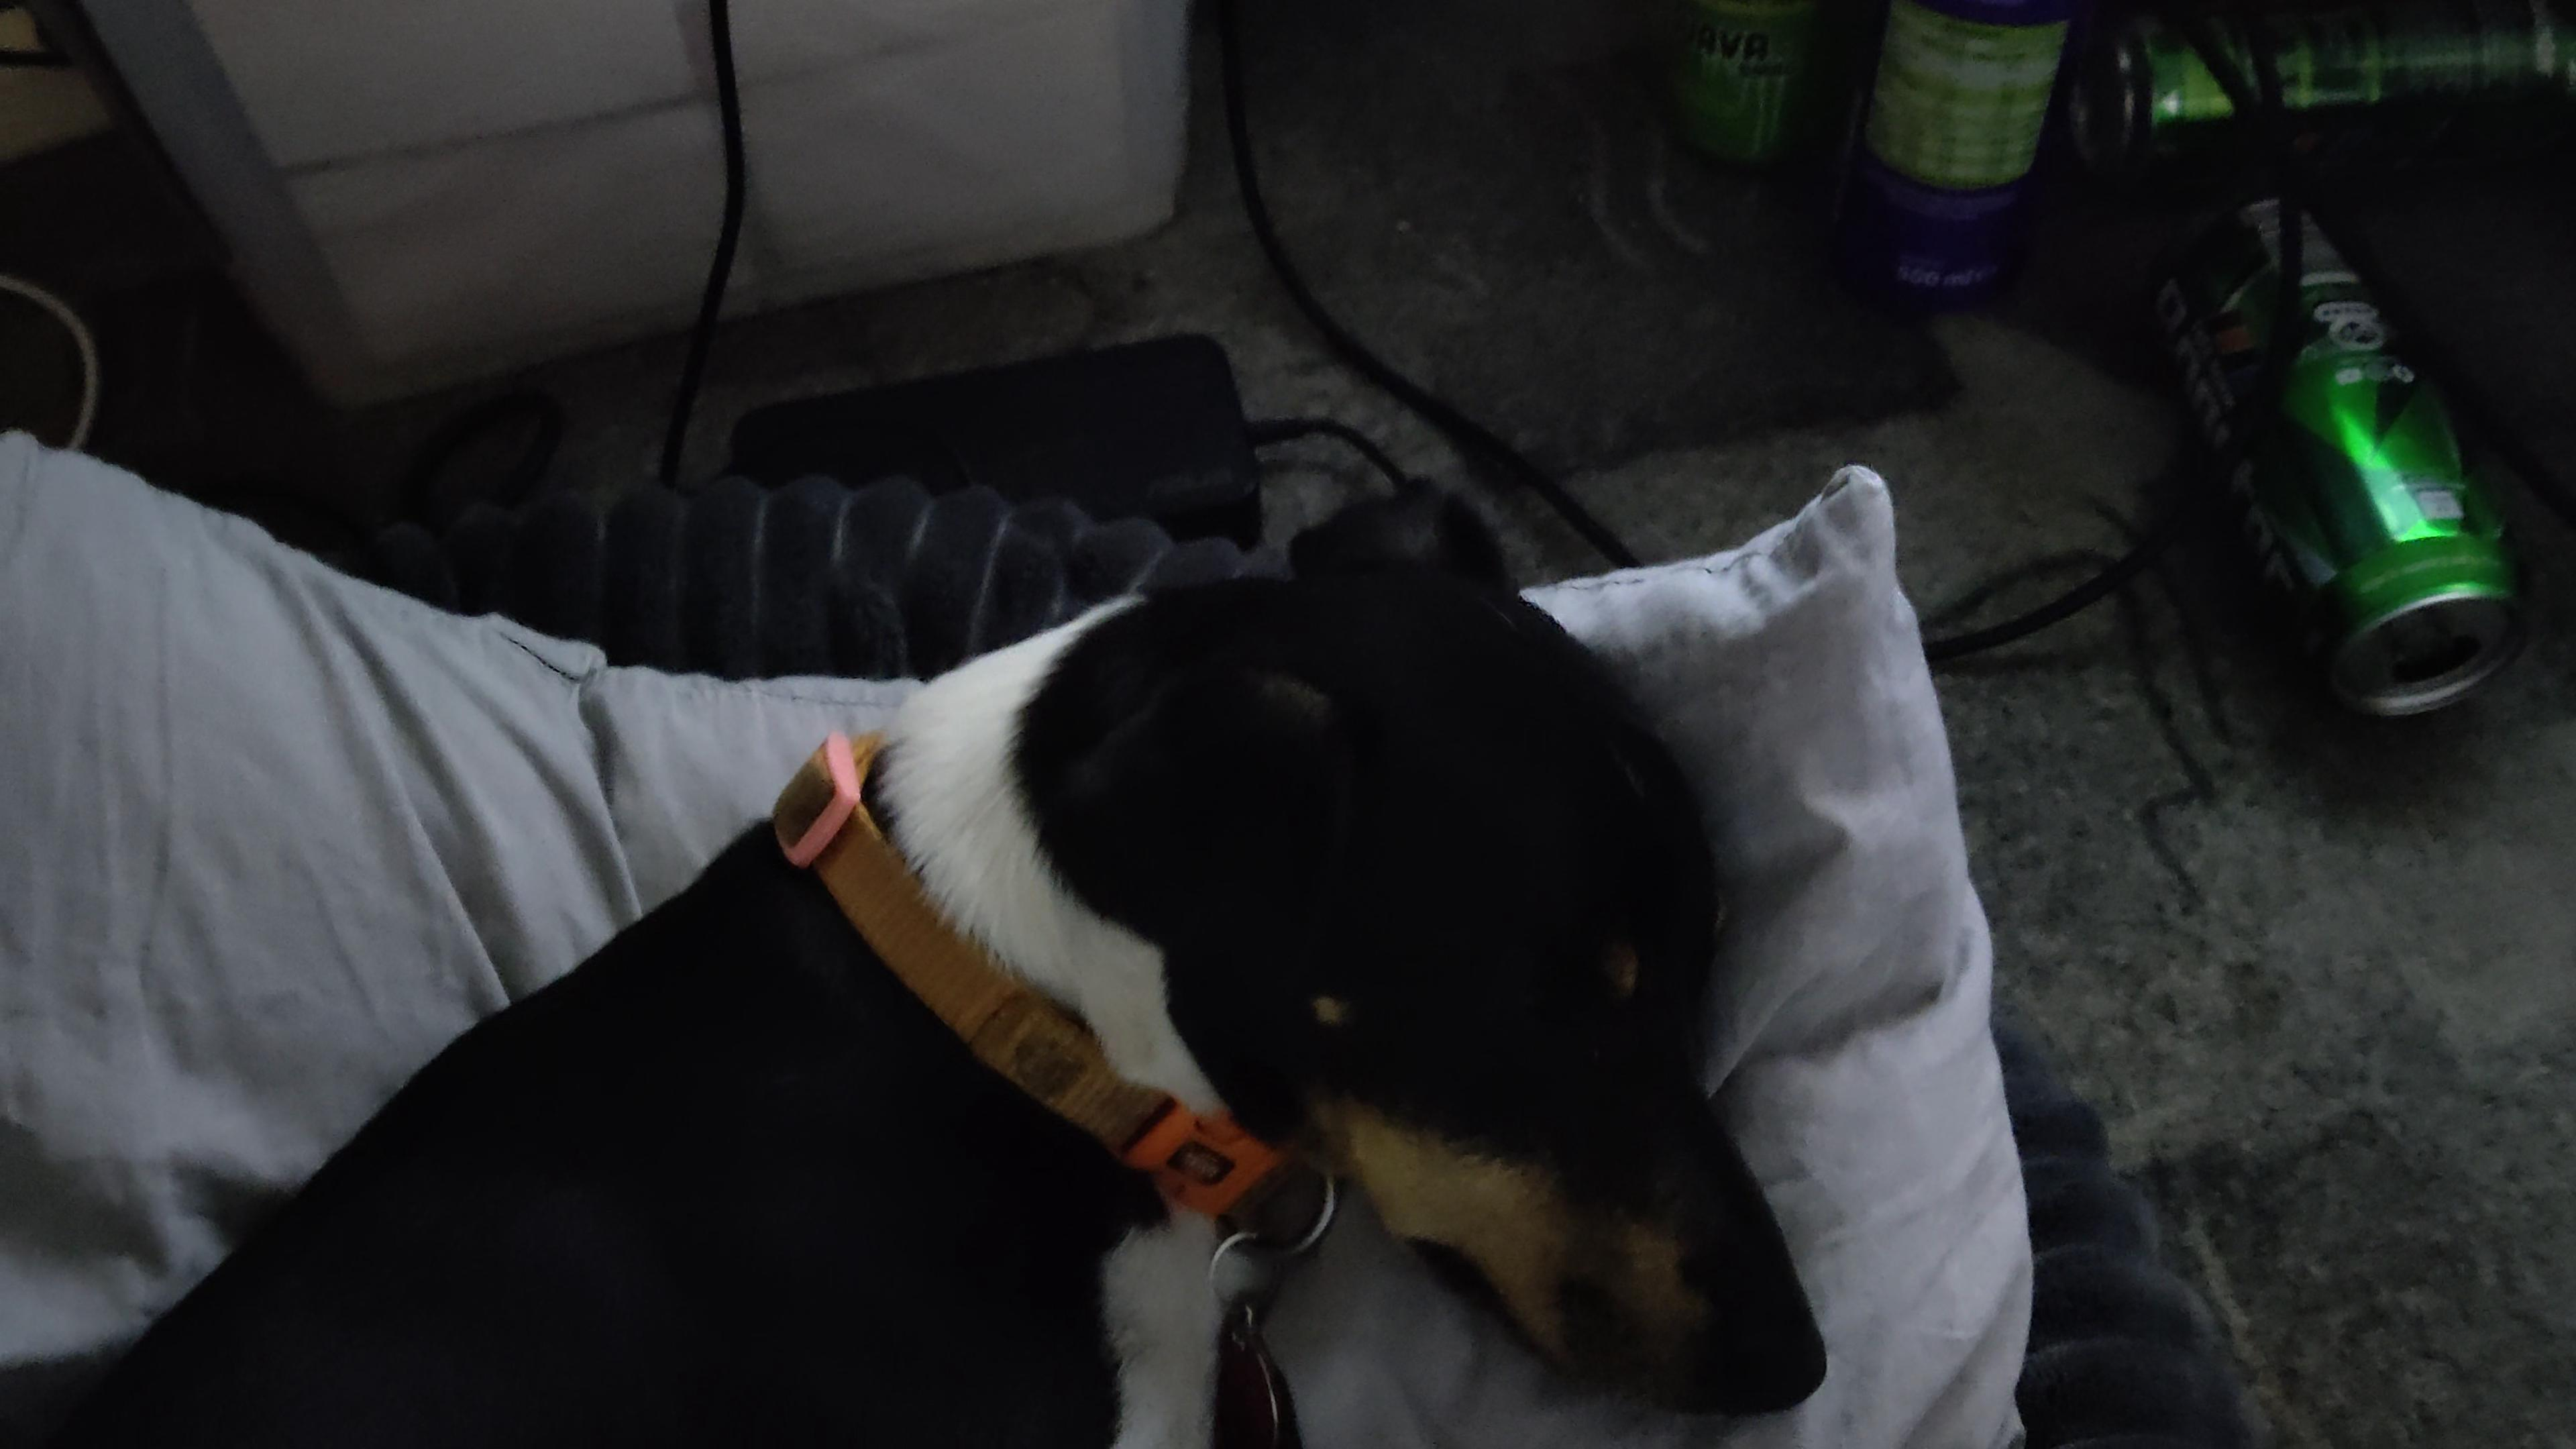Dog: (35, 462, 1840, 1449)
